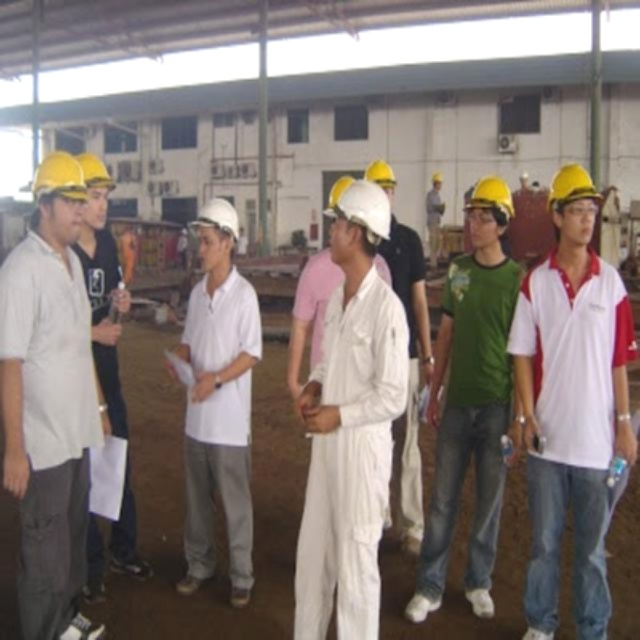Con_Casco: (332, 183, 392, 271), (35, 154, 85, 239), (551, 163, 603, 239)
Sin_Chaleco: (179, 266, 265, 414)
